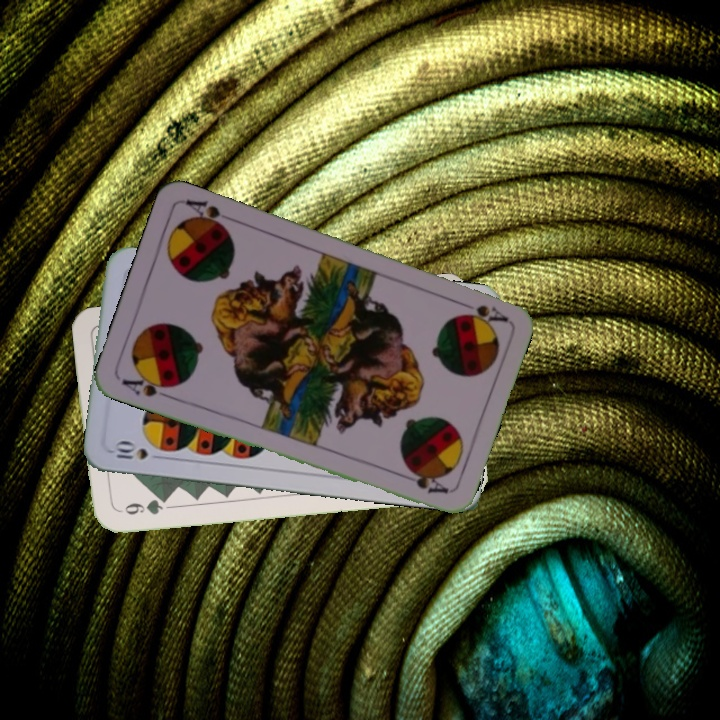G9: (121, 493, 172, 517)
S10: (108, 439, 167, 462)
SA: (117, 370, 177, 402), (453, 296, 510, 325)
